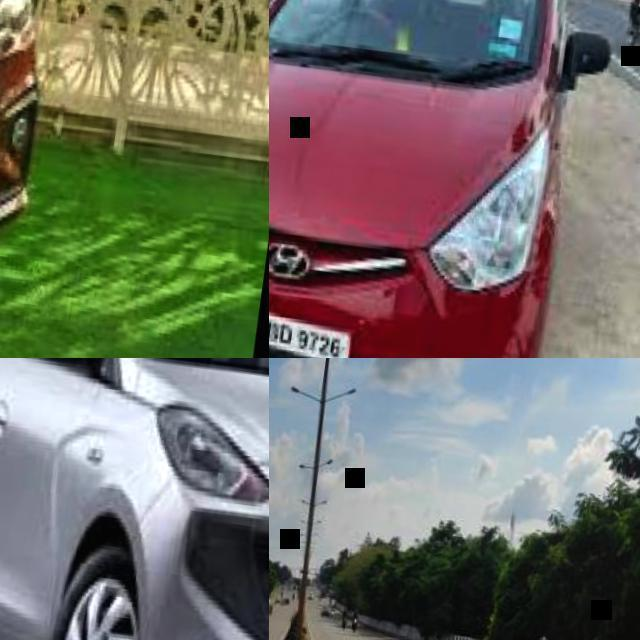car: (264, 0, 576, 345), (1, 349, 275, 639)
